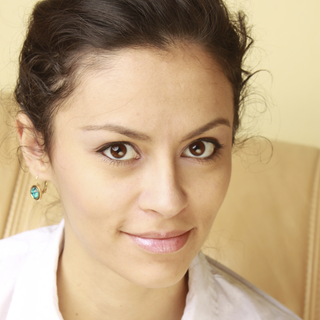eye: (93, 139, 143, 165), (178, 136, 223, 164)
